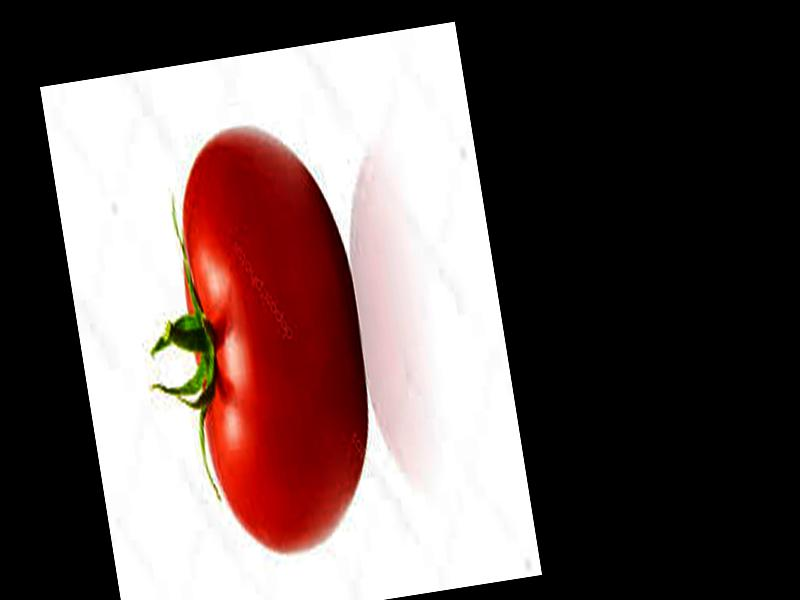Tomato: (160, 113, 391, 565)
